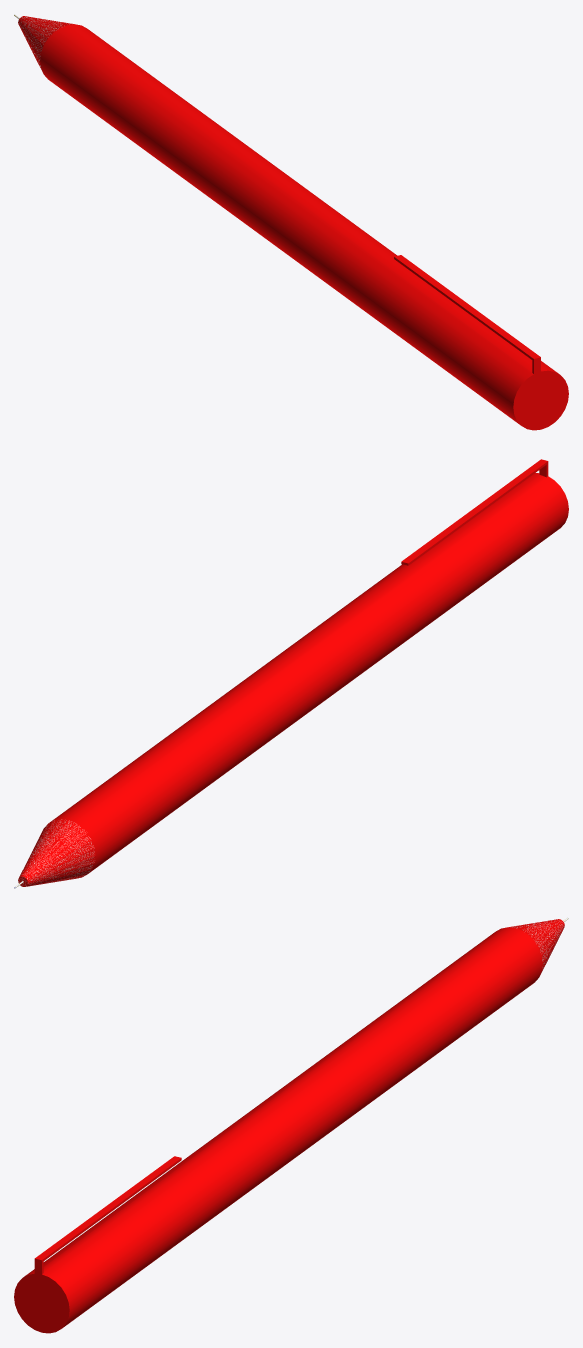
File: pen_01_origin.dae
3 renders of one model, top to bottom at view 1: azimuth 30°, elevation 25°; view 2: azimuth 150°, elevation 25°; view 3: azimuth 330°, elevation 25°, orthographic.
Parts seen in each view (by area): view 1: SketchUp; view 2: SketchUp; view 3: SketchUp.
Part boxes in pixels (left/top/right/bottom): SketchUp: left=18, top=16, right=568, bottom=430; SketchUp: left=18, top=459, right=568, bottom=886; SketchUp: left=14, top=919, right=564, bottom=1333.
Bounding box in the file's own units: 0.2795 × 4.58 × 0.3473.
